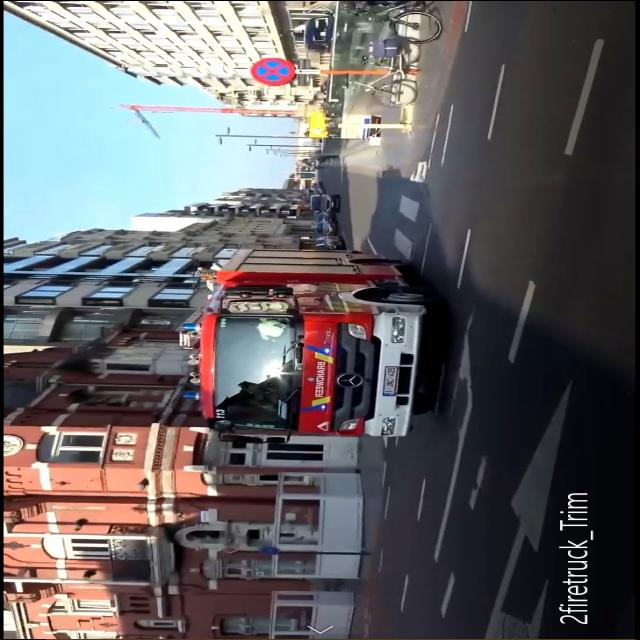emergency: (178, 243, 460, 451)
